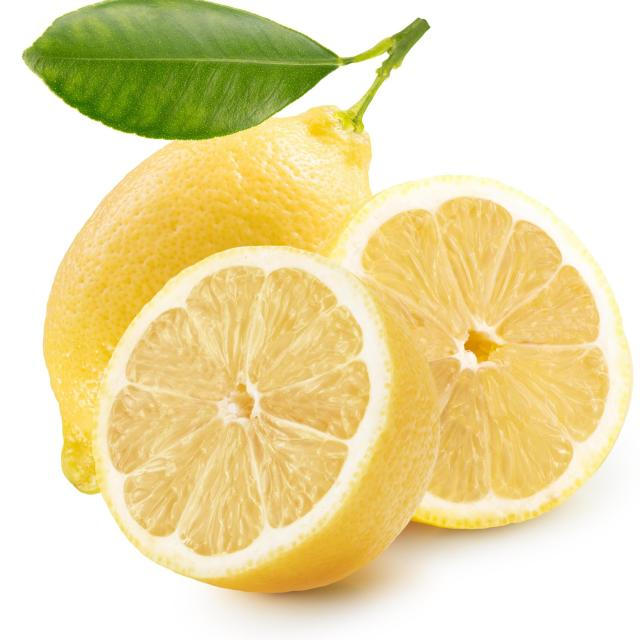lemon: (89, 239, 446, 601), (316, 166, 640, 535)
